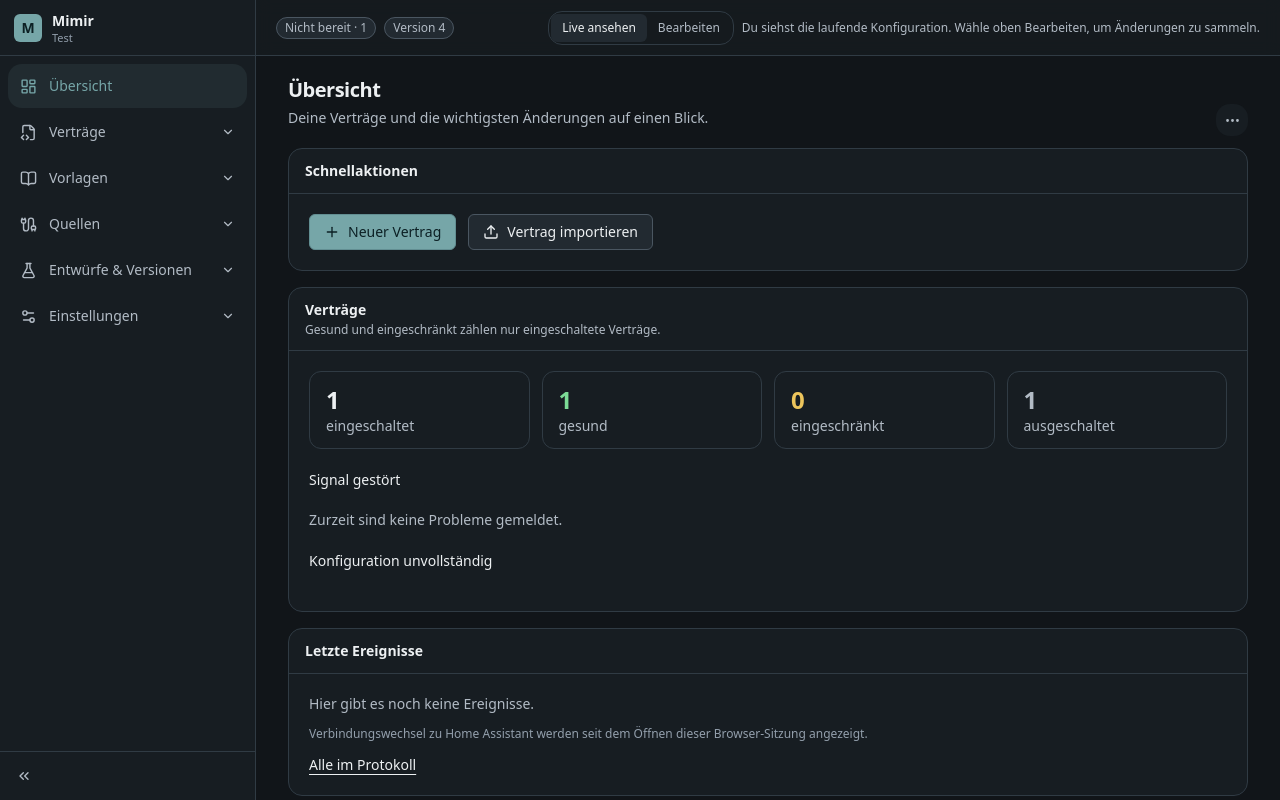
Test: uses the same healthy category for counts, filter and chip even with an unknown stale field
The width and height of the screenshot is (1280, 800).
Click the link "1 gesund" at [652, 410], box [542,371,762,449]
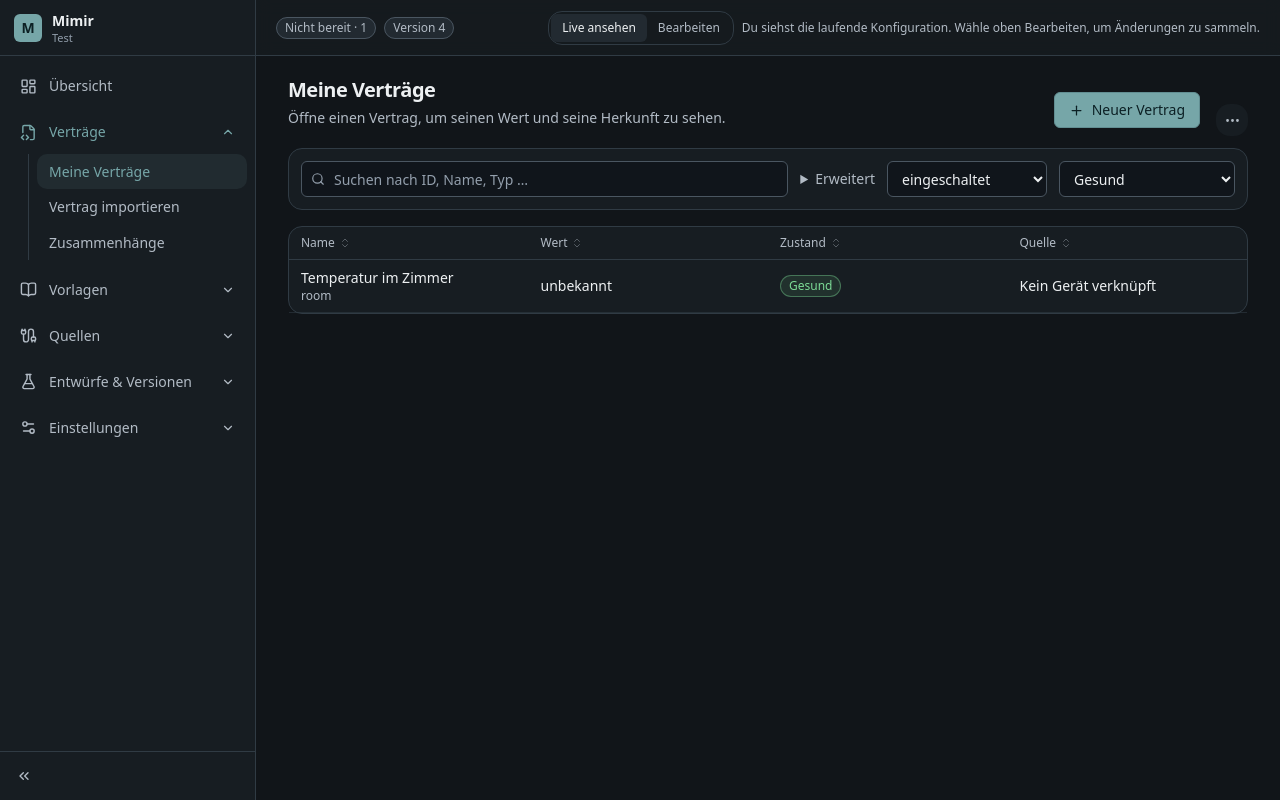
Expected: the text "Gesund" is shown, [780,275,842,297]
Expected: the link "Temperatur im Zimmer" is shown, [301,268,454,287]
Expected: the dropdown named "Zustand" shows "Gesund"
Select "Unbekannt" in the dropdown named "Zustand" at [1147, 179], box [1059,161,1235,197]
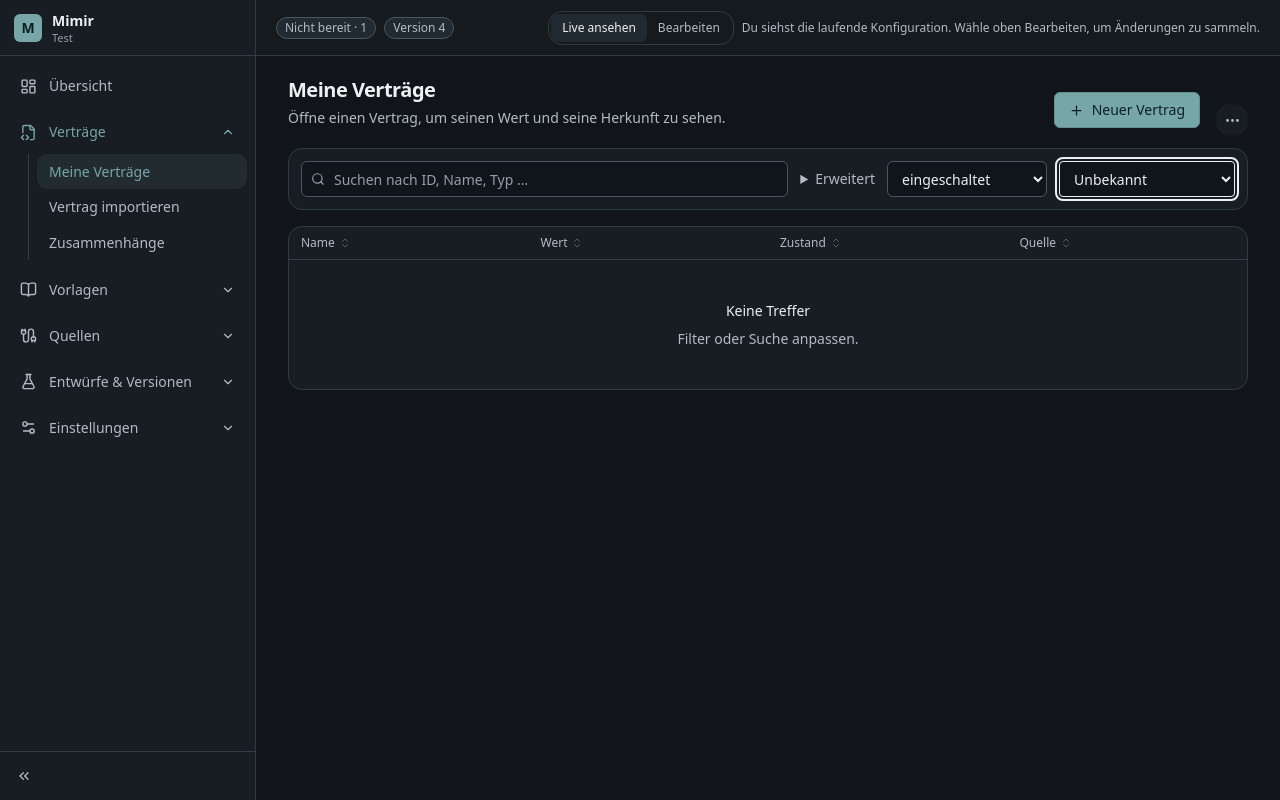
Expected: the link "Temperatur im Zimmer" is gone
